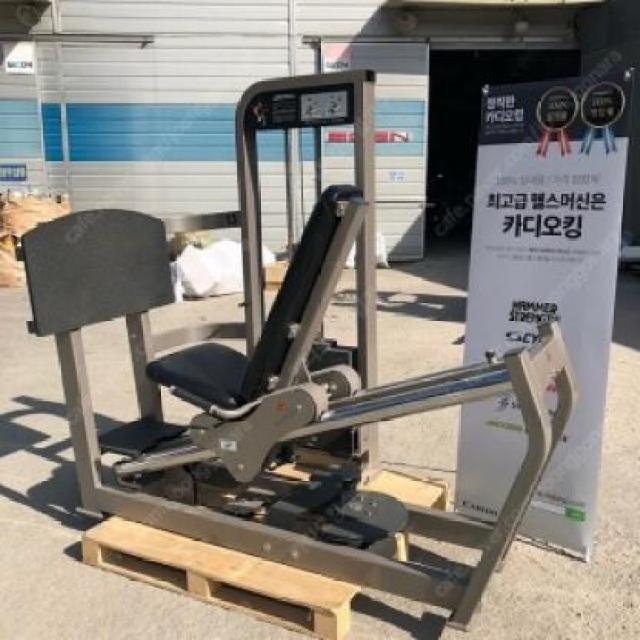leg press: (12, 60, 598, 640)
